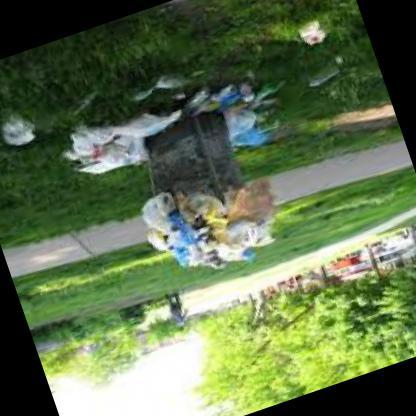Garbage: (139, 174, 292, 290), (52, 110, 145, 188), (212, 79, 273, 147), (113, 100, 190, 142)
